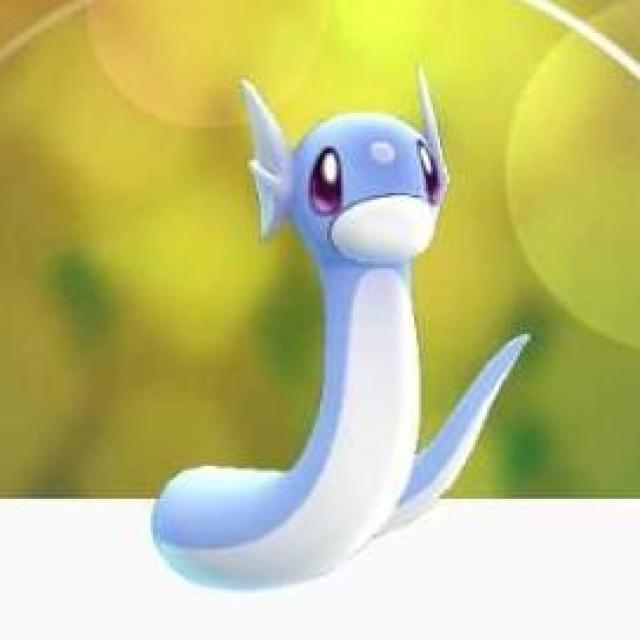Dratini: (140, 71, 463, 595)
